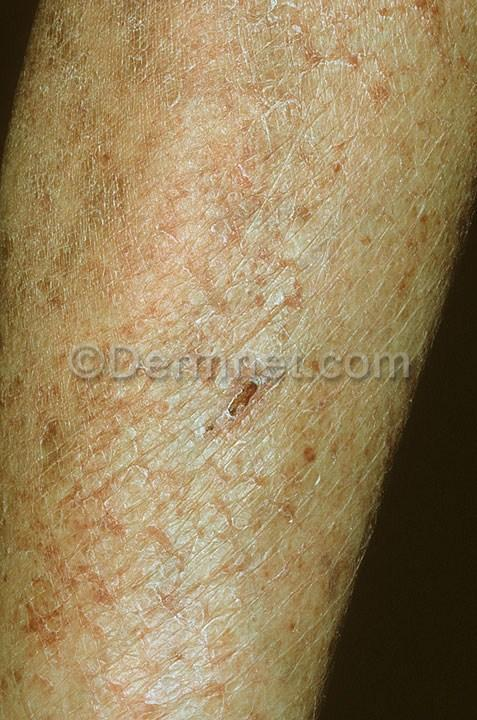Eczema: (0, 528, 93, 652), (91, 69, 202, 159), (25, 336, 119, 432), (226, 187, 323, 275), (7, 437, 97, 528), (278, 277, 353, 386), (213, 89, 294, 189), (233, 509, 323, 596), (160, 496, 247, 585), (197, 214, 264, 329), (364, 116, 446, 208), (123, 382, 187, 498), (182, 350, 273, 431), (4, 251, 100, 326), (140, 576, 233, 652), (6, 156, 89, 236), (91, 489, 160, 583), (107, 203, 187, 278), (310, 25, 387, 101), (83, 1, 170, 67), (120, 282, 198, 353), (300, 106, 365, 191), (229, 0, 295, 81), (216, 607, 292, 676), (85, 111, 142, 198), (204, 436, 277, 501), (12, 78, 79, 148), (157, 150, 226, 217), (271, 424, 335, 494), (160, 11, 230, 73), (335, 369, 400, 435), (392, 202, 445, 280), (374, 289, 446, 346), (376, 54, 435, 119), (306, 492, 367, 554), (299, 537, 358, 596), (288, 579, 321, 683), (336, 219, 392, 280), (301, 0, 379, 42), (96, 659, 155, 713), (44, 4, 91, 69), (195, 675, 255, 720), (329, 437, 385, 483), (255, 678, 310, 720), (402, 0, 452, 44), (0, 664, 54, 703), (447, 49, 477, 97)
